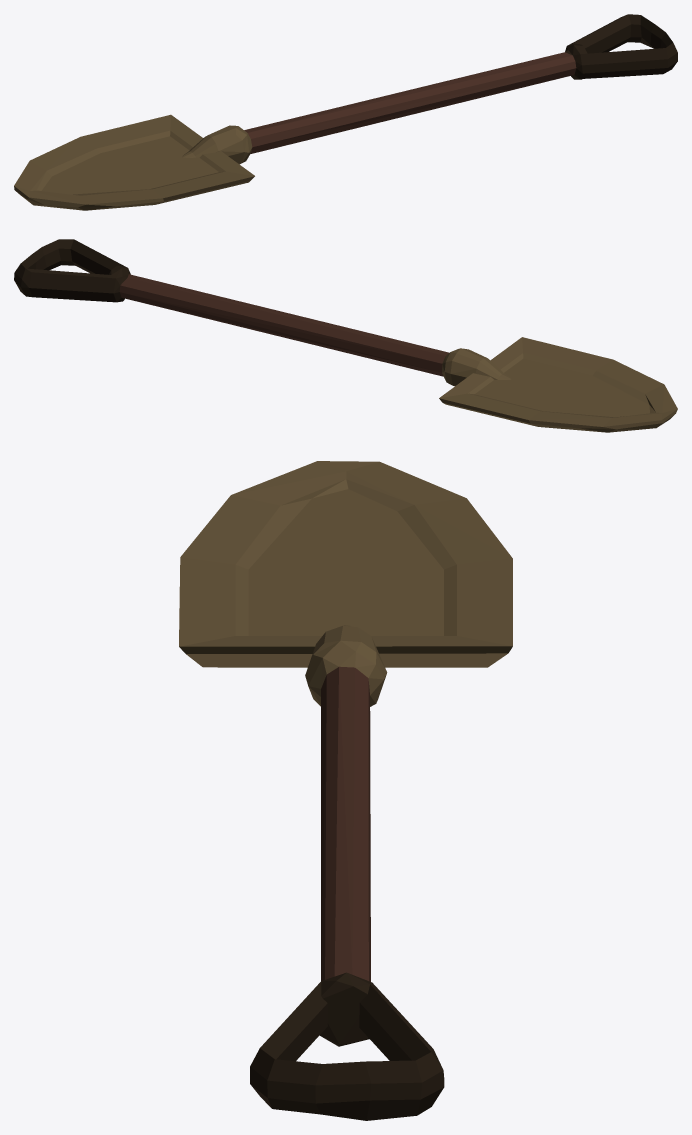
The model's file is Shovel.fbx.
3 views of the same model, one above another, from view 1: azimuth 30°, elevation 25°; view 2: azimuth 150°, elevation 25°; view 3: azimuth 270°, elevation 25° (orthographic). The views are drawn at different scales.
Visible parts, largest first — view 1: Shovel; view 2: Shovel; view 3: Shovel.
Part boxes in pixels (<box>): Shovel: <box>14,14,677,210</box>; Shovel: <box>14,239,677,432</box>; Shovel: <box>179,461,512,1120</box>.
Bounding box in the file's own units: 636 × 144 × 34.33.
